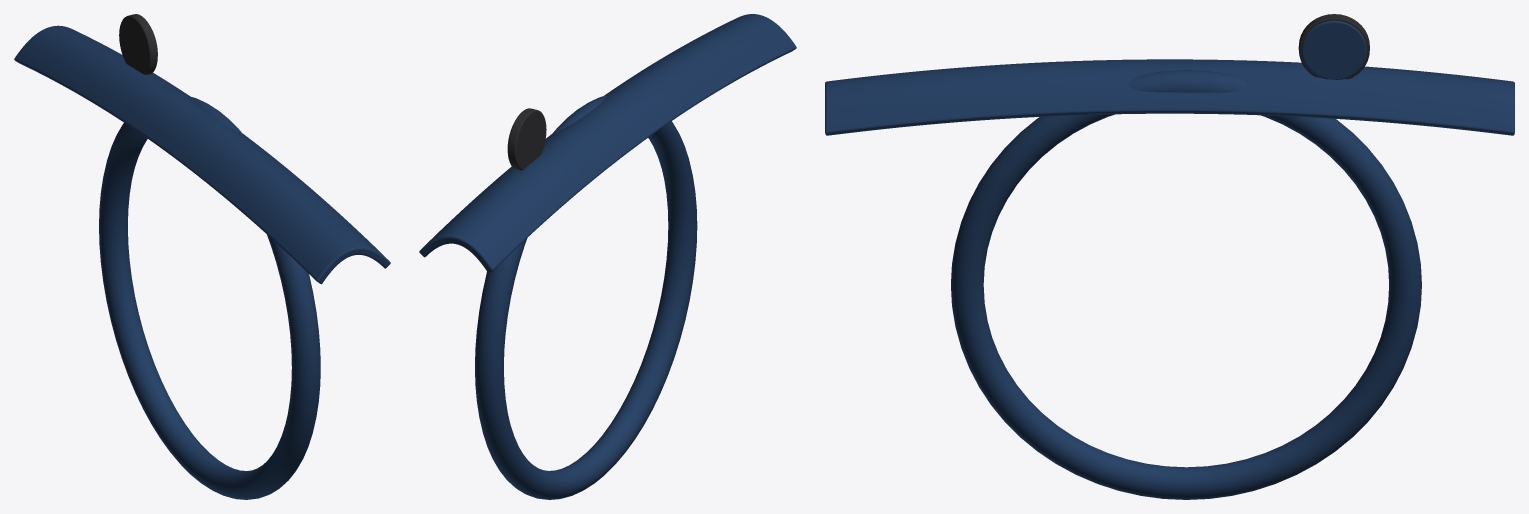
File: rear_quarter_left.glb
3 renders of one model, left to right at view 1: azimuth 30°, elevation 25°; view 2: azimuth 150°, elevation 25°; view 3: azimuth 270°, elevation 25°, orthographic. The views are drawn at different scales.
Visible parts, largest first — view 1: REAR_QUARTER_HAUNCH_LEFT, REAR_ARCH_LIP_LEFT, FUEL_FILLER_RECESS; view 2: REAR_QUARTER_HAUNCH_LEFT, REAR_ARCH_LIP_LEFT, FUEL_FILLER_RECESS; view 3: REAR_ARCH_LIP_LEFT, REAR_QUARTER_HAUNCH_LEFT, FUEL_FILLER_FLAP, FUEL_FILLER_RECESS.
Part boxes in pixels (x1,y1,x2,y2): REAR_QUARTER_HAUNCH_LEFT: [14, 25, 390, 284]; REAR_ARCH_LIP_LEFT: [99, 96, 320, 499]; FUEL_FILLER_RECESS: [119, 14, 157, 74]; REAR_QUARTER_HAUNCH_LEFT: [419, 14, 796, 272]; REAR_ARCH_LIP_LEFT: [475, 95, 697, 499]; FUEL_FILLER_RECESS: [507, 108, 546, 170]; REAR_ARCH_LIP_LEFT: [951, 70, 1421, 499]; REAR_QUARTER_HAUNCH_LEFT: [825, 59, 1514, 135]; FUEL_FILLER_FLAP: [1301, 20, 1367, 79]; FUEL_FILLER_RECESS: [1298, 14, 1369, 79].
Size of the model in its own units: 0.177 by 0.965 by 1.26.
